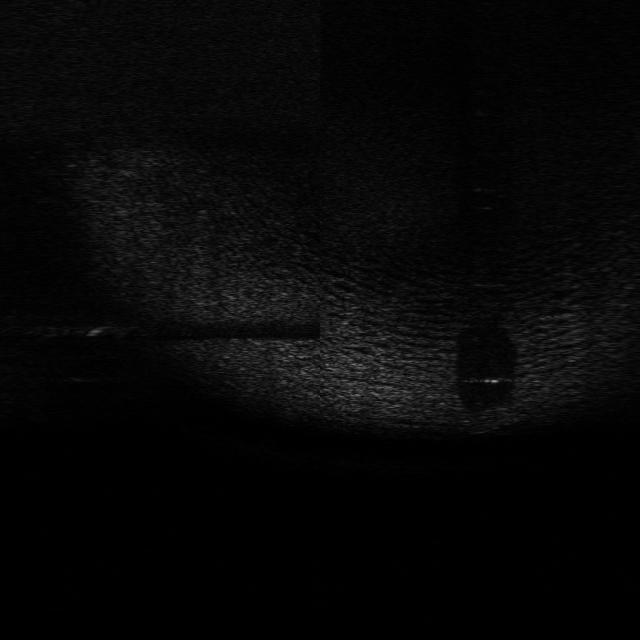cube: (454, 402, 516, 434)
